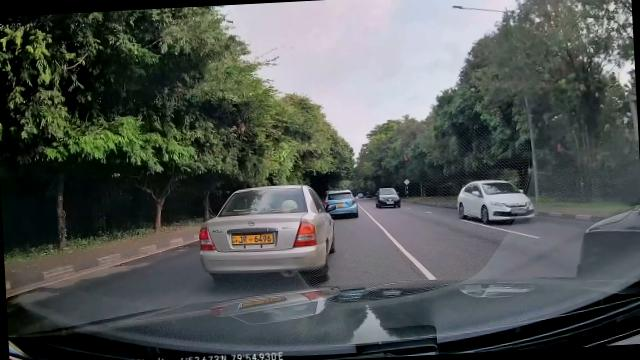number plate: (221, 224, 280, 252)
